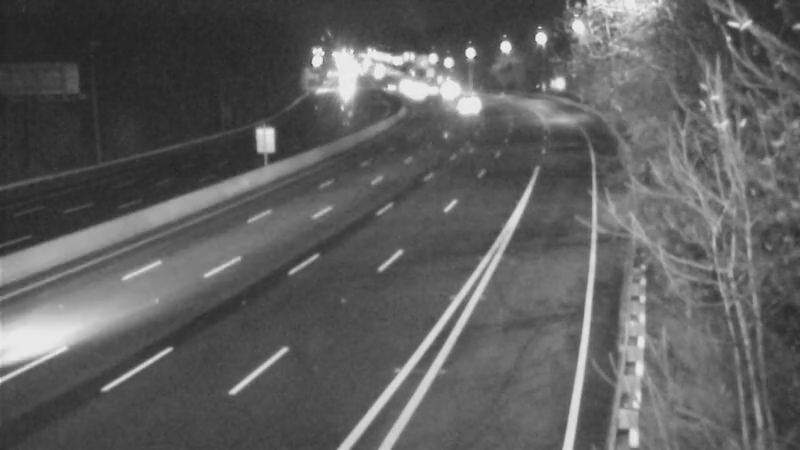vehicle: (422, 64, 472, 114), (445, 83, 495, 133)
